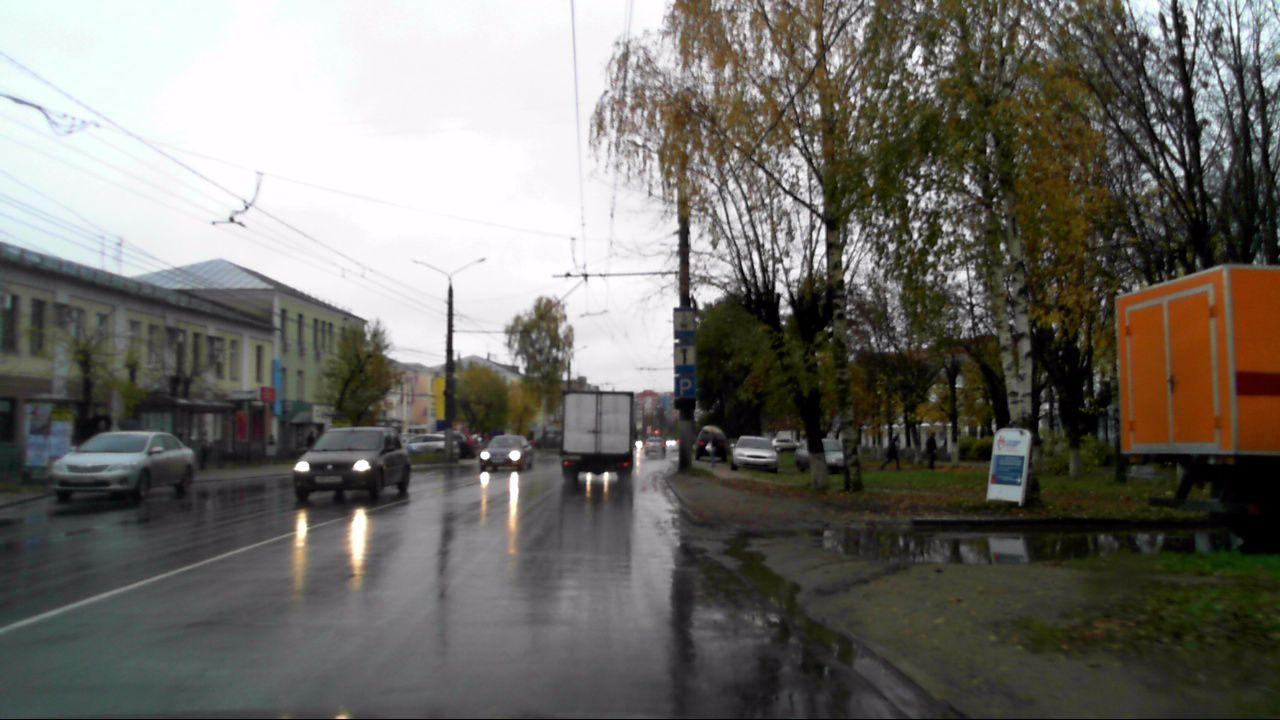6_4: (674, 375, 696, 399)
7_4: (675, 343, 695, 373)
7_5: (672, 306, 695, 340)
